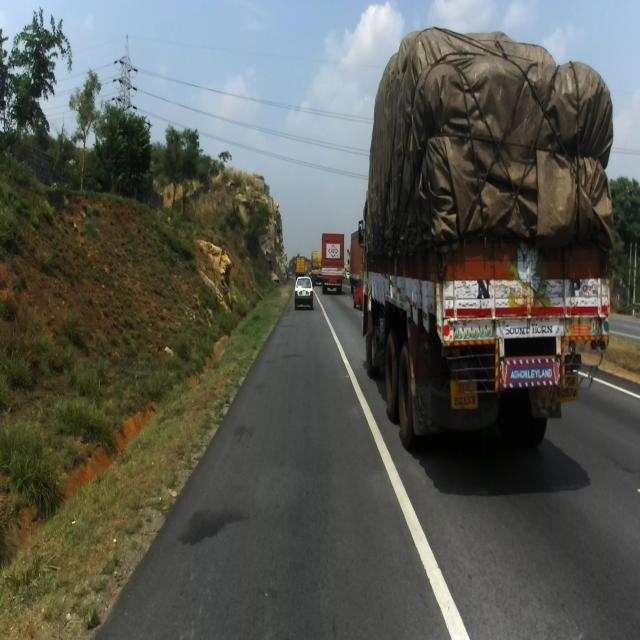car: (294, 275, 315, 308)
truck: (357, 25, 613, 448)
